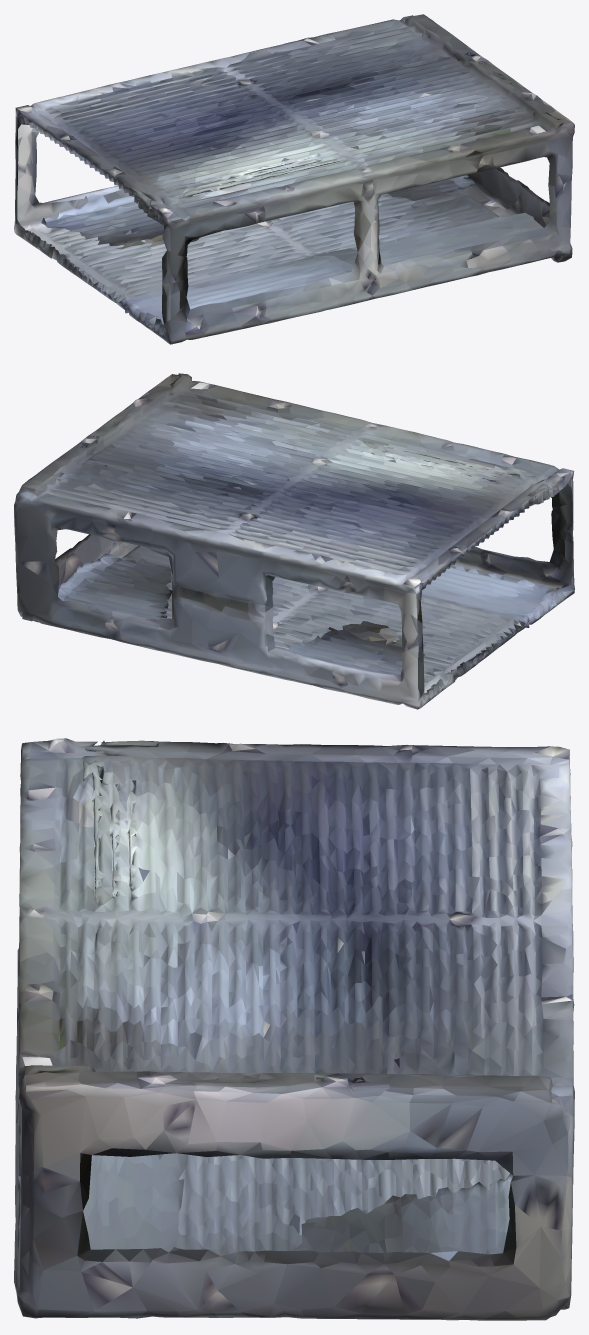
The picture shows the model from 3 angles, top to bottom: view 1: azimuth 30°, elevation 25°; view 2: azimuth 150°, elevation 25°; view 3: azimuth 270°, elevation 25°; orthographic projection. The views are drawn at different scales.
Parts seen in each view (by area): view 1: 20260518; view 2: 20260518; view 3: 20260518.
Part boxes in pixels (box(x1,y1,x2,y2)): 20260518: box(14, 14, 574, 344); 20260518: box(14, 373, 574, 709); 20260518: box(14, 738, 574, 1320).
Bounding box in the file's own units: 0.2661 × 0.0893 × 0.1812.
